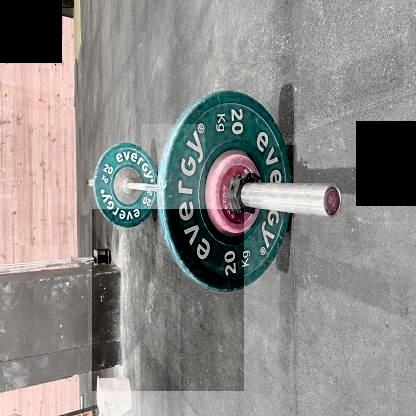barbell: (93, 210, 245, 392), (141, 125, 206, 212)
